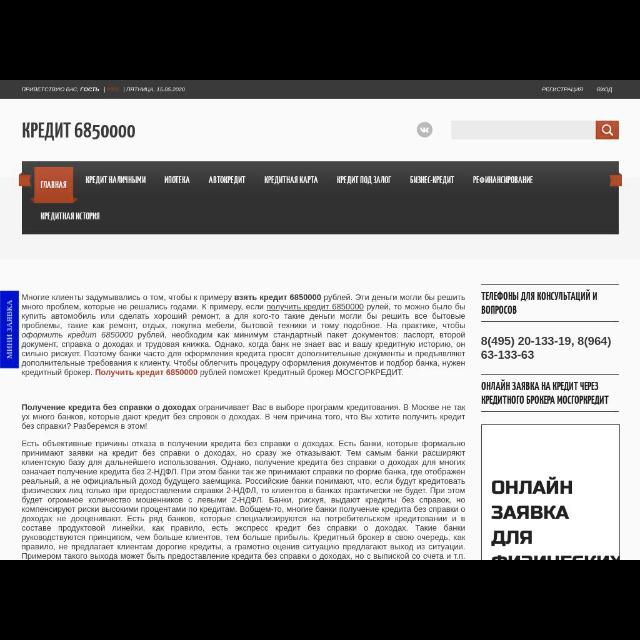button: (598, 121, 618, 139)
icon: (602, 124, 614, 136)
image: (482, 424, 620, 560), (416, 122, 434, 138)
input: (450, 122, 596, 138)
text: (21, 439, 466, 559), (21, 292, 465, 378), (21, 402, 467, 432), (481, 335, 611, 361), (481, 382, 609, 406), (480, 290, 598, 316), (21, 122, 135, 142), (471, 174, 535, 186), (20, 86, 101, 94), (84, 176, 146, 186), (40, 211, 100, 221), (335, 177, 391, 186), (6, 298, 14, 360), (262, 176, 320, 184), (410, 175, 454, 185), (126, 86, 186, 92), (541, 86, 585, 94), (40, 178, 68, 190), (208, 176, 246, 184), (163, 175, 191, 185), (596, 86, 614, 94)
